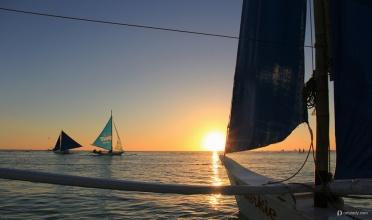fanchuan: (217, 1, 370, 214), (91, 112, 127, 157), (51, 129, 77, 154)
